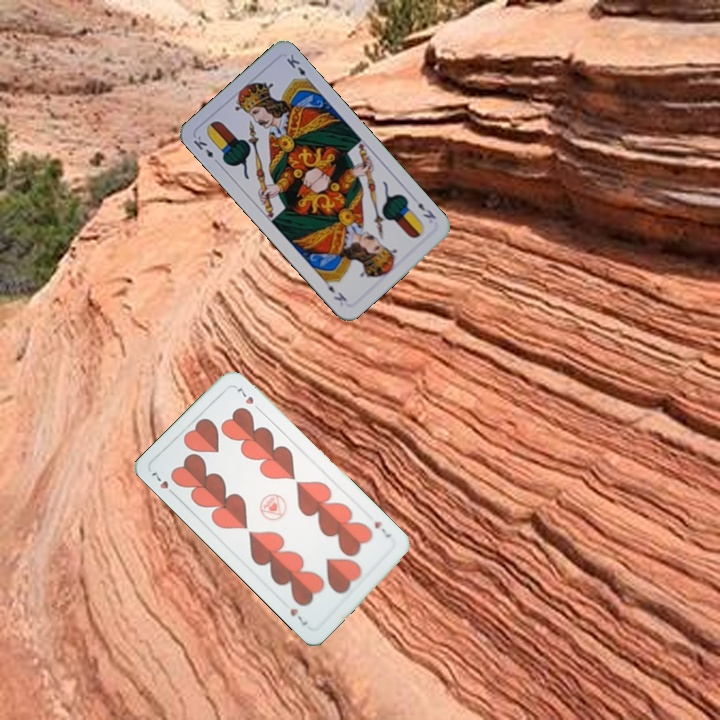EK: (189, 132, 222, 167), (414, 198, 439, 222)
H7: (147, 468, 179, 499), (370, 517, 394, 541)
